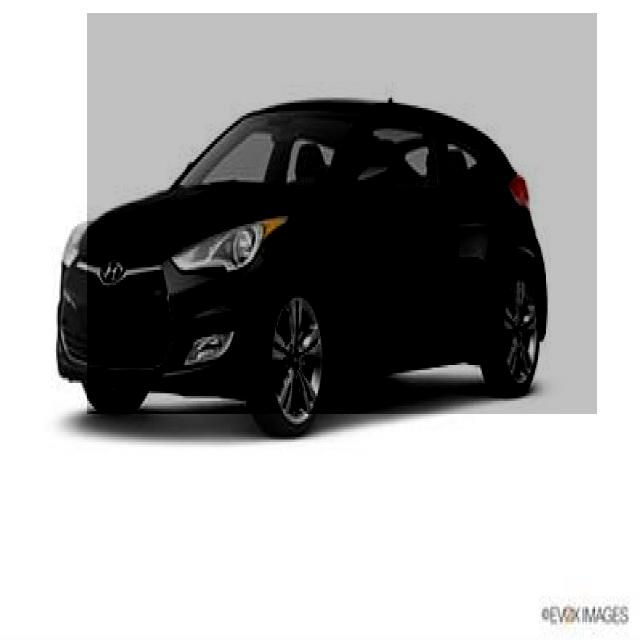Car: (88, 13, 598, 414)
